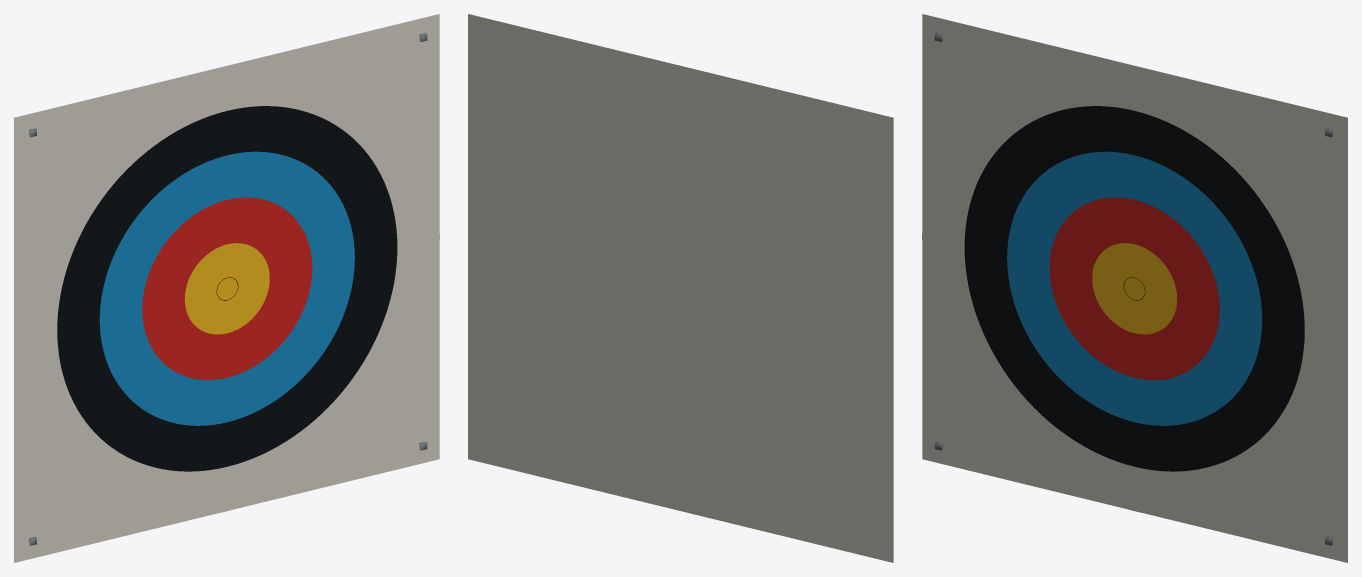
The model's file is target_face_square.glb.
The picture shows the model from 3 angles, left to right: view 1: azimuth 30°, elevation 25°; view 2: azimuth 150°, elevation 25°; view 3: azimuth 330°, elevation 25°; orthographic projection.
Parts seen in each view (by area): view 1: face; view 2: face; view 3: face.
Boxes of the visible parts, x1,y1,x2,y2 form: face: (14, 14, 439, 562); face: (468, 14, 893, 562); face: (922, 14, 1347, 562).
Size of the model in its own units: 1.22 by 1.22 by 0.011.
